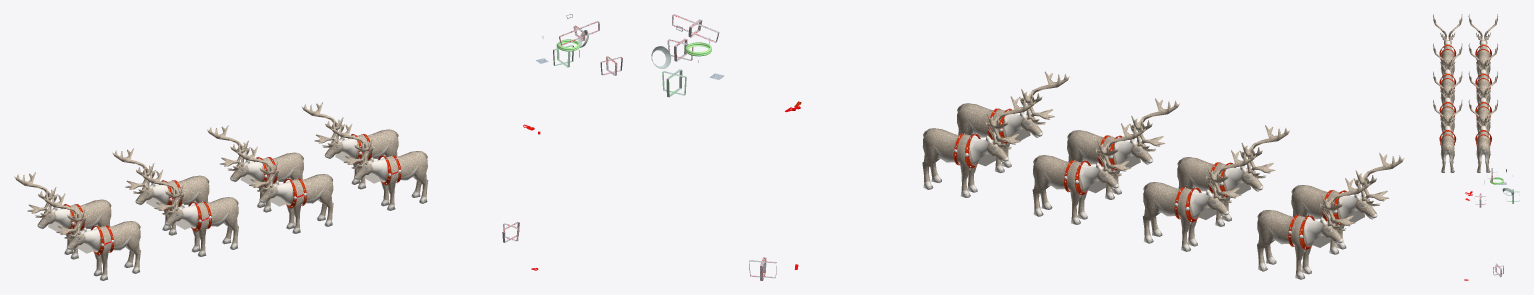
File: santa3.glb
3 views of the same model, side by side, from view 1: azimuth 30°, elevation 25°; view 2: azimuth 150°, elevation 25°; view 3: azimuth 270°, elevation 25° (orthographic). The views are drawn at different scales.
Parts seen in each view (by area): view 1: group_31.040, group_31.246, group_31.068, group_31.107, group_31.178, group_31.004, group_31.133, group_31.212, group_31.070, group_31.148, group_31.105, group_31.041 (+4 smaller); view 2: group_31.178, group_31.133, group_31.212, group_31.004, group_31.068, group_31.040, group_31.246, group_31.107, group_31.213, group_31.005, group_31.126, group_31.179 (+12 smaller); view 3: group_31.107, group_31.004, group_31.178, group_31.212, group_31.133, group_31.246, group_31.068, group_31.040, group_31.005, group_31.105, group_9.003, group_31.143 (+16 smaller).
Boxes of the visible parts, <box> form: group_31.040: <box>192,197,238,250</box>; group_31.246: <box>94,221,140,274</box>; group_31.068: <box>287,174,333,228</box>; group_31.107: <box>381,151,428,205</box>; group_31.178: <box>66,199,111,253</box>; group_31.004: <box>353,129,398,183</box>; group_31.133: <box>164,175,209,229</box>; group_31.212: <box>258,152,303,206</box>; group_31.070: <box>270,181,323,211</box>; group_31.148: <box>77,228,130,258</box>; group_31.105: <box>364,158,417,188</box>; group_31.041: <box>175,204,228,234</box>; group_31.178: <box>1257,210,1311,272</box>; group_31.133: <box>1142,182,1197,245</box>; group_31.212: <box>1032,155,1087,218</box>; group_31.004: <box>922,128,976,191</box>; group_31.068: <box>1067,130,1119,193</box>; group_31.040: <box>1177,157,1230,220</box>; group_31.246: <box>1291,185,1344,248</box>; group_31.107: <box>957,103,1009,166</box>; group_31.213: <box>1044,163,1106,198</box>; group_31.005: <box>934,136,996,171</box>; group_31.126: <box>1154,190,1216,225</box>; group_31.179: <box>1269,218,1330,253</box>; group_31.107: <box>1440,132,1454,170</box>; group_31.004: <box>1476,132,1490,170</box>; group_31.178: <box>1476,46,1490,79</box>; group_31.212: <box>1476,104,1490,135</box>; group_31.133: <box>1476,75,1490,107</box>; group_31.246: <box>1440,46,1454,79</box>; group_31.068: <box>1440,104,1454,135</box>; group_31.040: <box>1440,75,1454,107</box>; group_31.005: <box>1479,126,1487,161</box>; group_31.105: <box>1444,125,1451,161</box>; group_9.003: <box>1493,263,1503,277</box>; group_31.143: <box>1448,14,1462,39</box>.
Bounding box in the file's own units: 691 × 239 × 144.
Materials: 20 (1 with a texture image).
